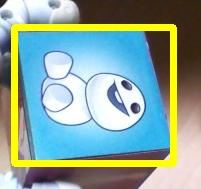Blue1: (14, 27, 173, 163)
